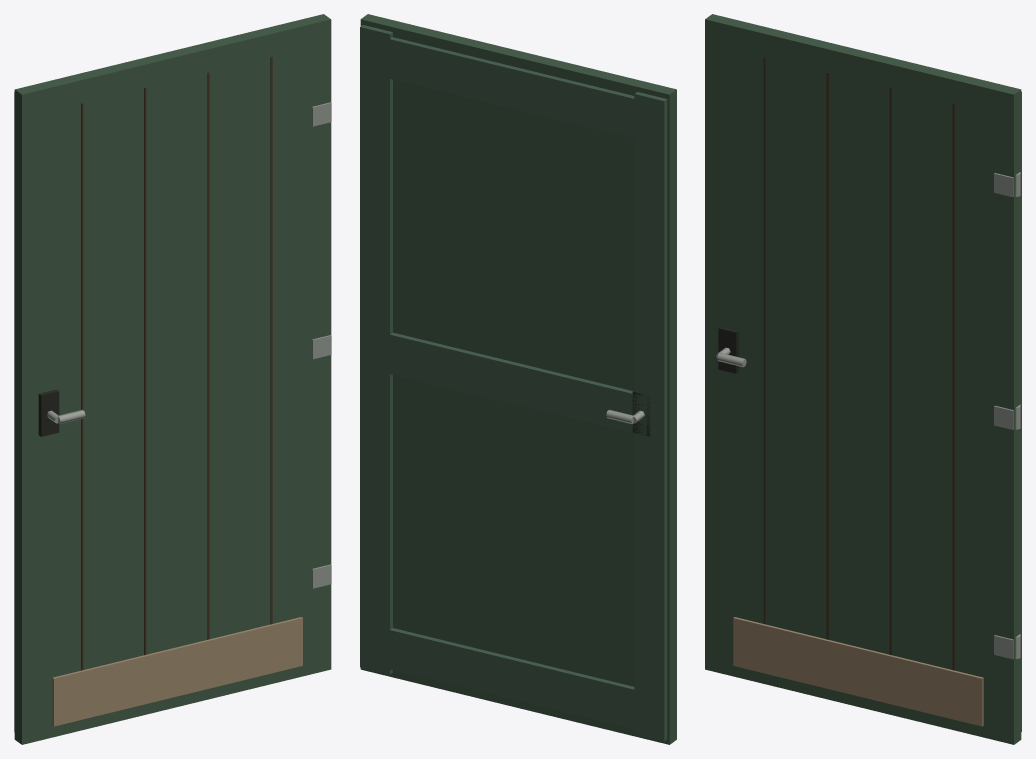
File: SM_FieldStation_Hut_Door_LOD1.fbx
The picture shows the model from 3 angles, left to right: view 1: azimuth 30°, elevation 25°; view 2: azimuth 150°, elevation 25°; view 3: azimuth 330°, elevation 25°; orthographic projection.
Visible parts, largest first — view 1: SM_FieldStation_Hut_Door_LOD1; view 2: SM_FieldStation_Hut_Door_LOD1; view 3: SM_FieldStation_Hut_Door_LOD1.
Boxes of the visible parts, <box> form: SM_FieldStation_Hut_Door_LOD1: <box>14,14,331,744</box>; SM_FieldStation_Hut_Door_LOD1: <box>360,14,676,744</box>; SM_FieldStation_Hut_Door_LOD1: <box>705,14,1021,744</box>.
Bounding box in the file's own units: 0.989 × 0.184 × 1.97.
